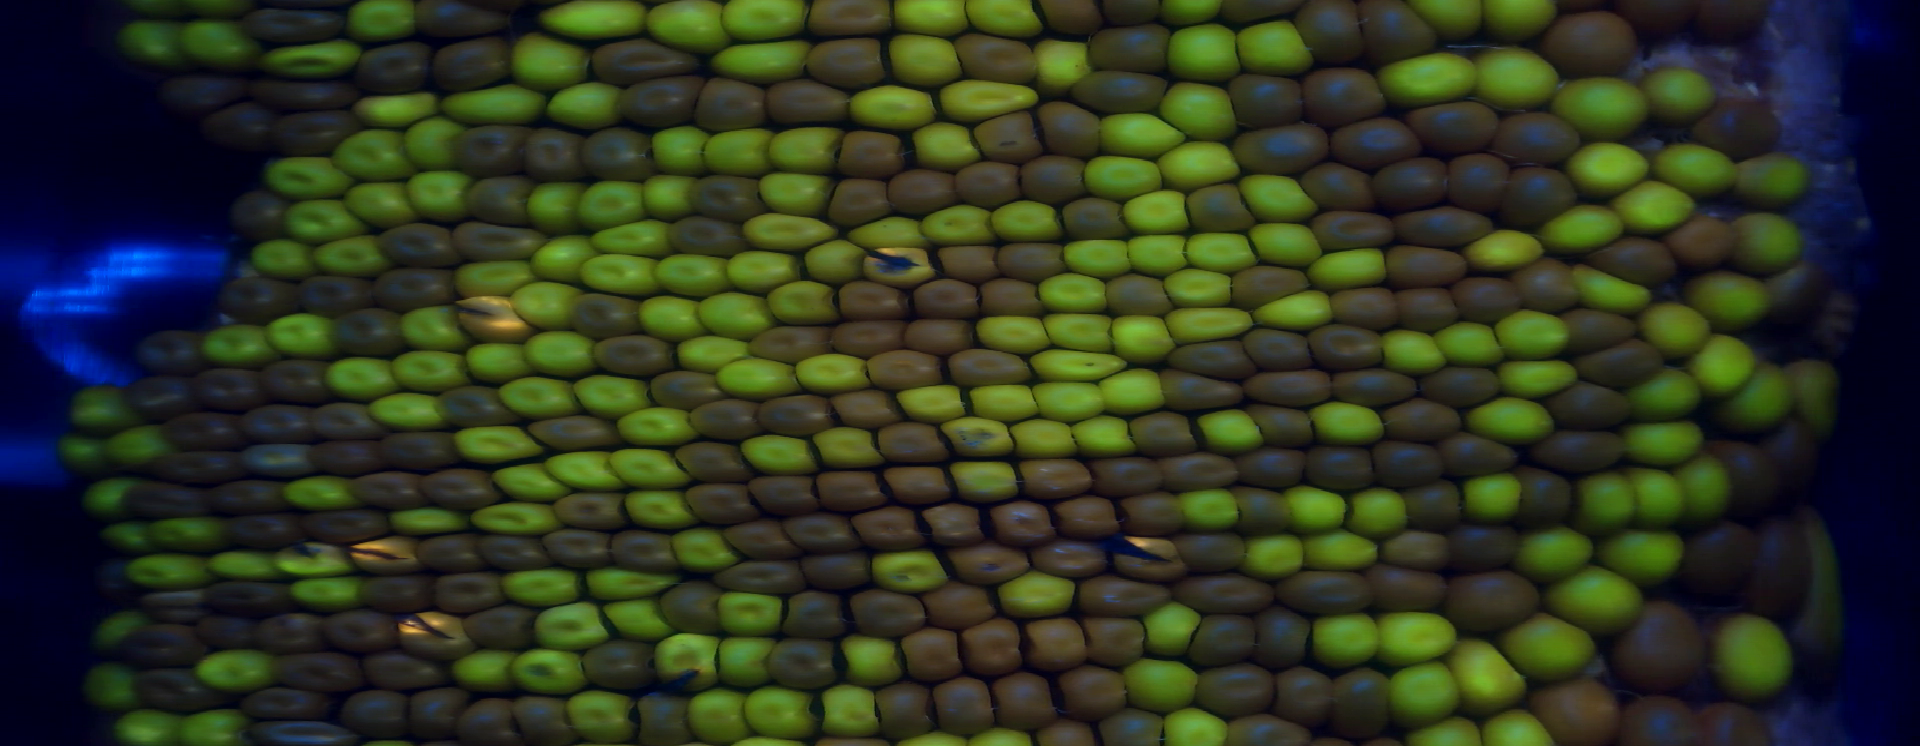fluorescent: (1801, 524, 1848, 702), (1713, 612, 1789, 697), (1545, 567, 1643, 628), (1553, 78, 1649, 138), (1452, 637, 1524, 717), (1502, 617, 1596, 677), (1477, 48, 1555, 111), (1160, 78, 1236, 143), (1379, 54, 1477, 102), (1389, 660, 1460, 725), (1724, 367, 1793, 434), (1693, 267, 1766, 328), (1728, 213, 1800, 274), (1618, 176, 1692, 235), (1122, 657, 1198, 714), (1468, 397, 1555, 447), (512, 31, 589, 87), (1603, 529, 1681, 583), (850, 85, 938, 132), (890, 29, 960, 89), (1167, 23, 1238, 82), (1376, 612, 1457, 664), (653, 632, 718, 696), (1520, 529, 1597, 582), (1643, 300, 1709, 361), (446, 85, 549, 124), (650, 2, 732, 51), (1653, 142, 1735, 191), (1735, 149, 1807, 205), (938, 81, 1038, 120), (711, 42, 808, 82), (1547, 202, 1622, 254), (1569, 140, 1648, 189), (1100, 114, 1185, 159), (1238, 21, 1311, 73), (542, 4, 647, 40), (1643, 72, 1719, 122), (1155, 141, 1238, 186), (328, 129, 407, 176), (1625, 421, 1703, 469), (1313, 611, 1379, 668), (743, 214, 838, 254), (1576, 473, 1637, 533), (492, 376, 580, 418), (874, 548, 949, 597), (1629, 370, 1703, 419), (1085, 152, 1163, 198), (753, 171, 831, 218), (566, 688, 638, 739), (746, 692, 818, 742), (324, 356, 400, 404), (997, 571, 1078, 615), (182, 20, 253, 69), (571, 374, 651, 416), (1242, 176, 1320, 220), (1144, 601, 1202, 660), (533, 601, 605, 649), (1697, 334, 1753, 396), (1187, 233, 1262, 278), (1030, 348, 1127, 383), (768, 122, 838, 171), (262, 43, 361, 77), (913, 120, 980, 171), (724, 2, 813, 40), (527, 331, 598, 379), (1245, 532, 1313, 582), (1788, 363, 1837, 431), (698, 292, 768, 339), (453, 296, 524, 343), (552, 80, 620, 129), (817, 685, 878, 739), (1247, 222, 1321, 266), (1500, 309, 1569, 356), (940, 416, 1013, 462), (722, 251, 803, 292), (719, 356, 797, 398), (1464, 229, 1543, 271), (655, 254, 731, 296), (688, 691, 754, 740), (841, 635, 902, 687), (947, 457, 1018, 502), (582, 255, 661, 295), (69, 383, 136, 431), (283, 195, 358, 238), (1573, 267, 1648, 310), (1124, 190, 1193, 236), (1682, 456, 1728, 526), (211, 548, 287, 589), (513, 284, 579, 332), (714, 593, 787, 636), (1633, 467, 1684, 529), (857, 244, 937, 283), (580, 183, 644, 232), (268, 157, 348, 196), (312, 238, 389, 278), (1253, 292, 1330, 332), (201, 647, 269, 692), (1381, 327, 1446, 375), (1347, 488, 1407, 539), (972, 381, 1038, 428), (547, 451, 623, 491), (606, 448, 687, 486), (1438, 318, 1500, 367), (354, 92, 440, 127), (203, 323, 274, 366), (456, 423, 541, 458), (1502, 358, 1573, 401), (404, 171, 468, 219), (1113, 316, 1172, 367), (703, 130, 768, 176), (501, 571, 583, 608), (989, 201, 1062, 243), (616, 407, 688, 448), (976, 314, 1048, 355), (1314, 402, 1386, 443), (1309, 250, 1385, 289), (528, 183, 583, 236), (407, 118, 462, 171), (453, 652, 520, 696), (509, 652, 583, 692), (588, 222, 671, 257), (389, 352, 473, 387), (343, 183, 411, 225), (125, 555, 211, 589), (470, 502, 556, 537), (1164, 265, 1233, 307), (969, 1, 1046, 39), (489, 464, 563, 503), (1037, 272, 1109, 312), (768, 281, 838, 322), (718, 637, 771, 691), (274, 539, 348, 578), (898, 383, 971, 423), (640, 293, 700, 341), (467, 341, 531, 385), (918, 206, 993, 244), (599, 599, 671, 638), (118, 22, 180, 67), (671, 527, 733, 572), (648, 126, 707, 174), (533, 233, 593, 279), (675, 334, 748, 372), (344, 2, 415, 42), (1033, 40, 1090, 89), (803, 236, 860, 285), (1464, 474, 1521, 523), (797, 355, 867, 394), (623, 488, 693, 527), (1307, 530, 1376, 570), (1167, 306, 1253, 338), (1128, 232, 1188, 277), (370, 392, 443, 429), (1288, 484, 1343, 533), (743, 435, 816, 472), (456, 262, 533, 296), (816, 428, 883, 467), (1013, 414, 1078, 454), (893, 2, 969, 37), (1037, 381, 1106, 419), (585, 570, 673, 599), (1104, 367, 1160, 414), (1060, 236, 1128, 274), (1048, 312, 1113, 352), (255, 236, 312, 281), (1480, 710, 1551, 746), (284, 475, 353, 512), (1074, 414, 1133, 457), (102, 426, 165, 465), (1198, 412, 1259, 452), (272, 314, 329, 356), (1183, 488, 1240, 530), (178, 710, 245, 746), (643, 174, 693, 220), (1164, 706, 1226, 744), (153, 517, 218, 552), (403, 311, 460, 350), (115, 707, 173, 746), (849, 217, 924, 246), (290, 577, 358, 609), (383, 507, 467, 533), (100, 514, 153, 552), (86, 668, 133, 707), (83, 479, 131, 514), (58, 429, 102, 467), (96, 612, 144, 639)
nonfluorescent: (1618, 600, 1707, 692), (1753, 512, 1813, 628), (1548, 7, 1638, 73), (1682, 521, 1753, 598), (1531, 676, 1613, 742), (1232, 122, 1330, 176), (1329, 116, 1423, 171), (1499, 167, 1578, 232), (1447, 572, 1537, 630), (1493, 111, 1583, 167), (1767, 266, 1829, 344), (1299, 69, 1386, 122), (1360, 2, 1438, 62), (1176, 571, 1275, 617), (591, 39, 698, 82), (1071, 67, 1164, 116), (1697, 102, 1780, 156), (809, 37, 891, 91), (1588, 235, 1671, 288), (1713, 442, 1776, 512), (267, 650, 360, 697), (1078, 572, 1171, 619), (1547, 380, 1629, 432), (763, 78, 851, 127), (1231, 69, 1300, 130), (1325, 673, 1386, 742), (271, 107, 361, 153), (1616, 692, 1700, 742), (620, 77, 700, 129), (1374, 157, 1451, 211), (133, 668, 222, 714), (1771, 416, 1818, 502), (432, 36, 508, 89), (1298, 2, 1363, 65), (1280, 571, 1371, 615), (1160, 363, 1244, 410), (452, 220, 549, 262), (1578, 341, 1660, 390), (451, 125, 523, 180), (1196, 665, 1273, 717), (958, 36, 1038, 85), (849, 589, 924, 641), (1089, 24, 1168, 73), (1169, 339, 1258, 383), (992, 671, 1058, 730), (119, 622, 204, 668), (249, 77, 354, 114), (1531, 430, 1622, 472), (1411, 102, 1487, 152), (768, 637, 835, 693), (1367, 566, 1447, 612), (464, 606, 539, 657), (1040, 102, 1103, 160), (373, 223, 458, 267), (356, 47, 432, 96), (756, 396, 838, 441), (585, 641, 658, 692), (1188, 617, 1260, 669), (372, 267, 453, 312), (943, 348, 1033, 388), (887, 165, 958, 217), (698, 78, 764, 134), (1022, 619, 1089, 674), (360, 652, 444, 695), (149, 448, 239, 489), (261, 352, 326, 407), (691, 176, 765, 224), (1021, 152, 1089, 205), (585, 129, 654, 180), (936, 677, 994, 737), (960, 621, 1022, 677), (816, 469, 889, 517), (522, 129, 587, 183), (1518, 261, 1584, 314), (1303, 163, 1374, 212), (590, 333, 671, 376), (322, 610, 400, 654), (1258, 609, 1311, 673), (1242, 327, 1315, 374), (200, 479, 293, 516), (400, 610, 474, 657), (218, 279, 298, 322), (866, 349, 943, 393), (1057, 668, 1123, 719), (953, 162, 1025, 208), (748, 473, 820, 519), (718, 557, 803, 597), (414, 1, 508, 37), (358, 573, 433, 617), (1700, 702, 1776, 746), (1308, 445, 1378, 492), (782, 587, 849, 637), (1228, 266, 1310, 306), (433, 387, 516, 428), (381, 430, 460, 472), (1087, 617, 1147, 673), (1111, 537, 1182, 583), (744, 323, 831, 361), (1248, 369, 1335, 407), (899, 627, 960, 681), (127, 481, 202, 526), (424, 468, 498, 512), (688, 397, 760, 442), (533, 413, 613, 453), (1335, 366, 1418, 405), (164, 409, 242, 451), (1393, 283, 1458, 333), (1128, 413, 1198, 459), (662, 581, 722, 635), (1518, 467, 1571, 528), (808, 1, 899, 37), (1396, 212, 1487, 247), (851, 507, 922, 552), (1385, 246, 1464, 287), (464, 176, 531, 224), (1053, 494, 1120, 541), (1673, 218, 1735, 269), (973, 111, 1037, 162), (1567, 307, 1640, 352), (1378, 441, 1442, 490), (951, 543, 1030, 583), (1315, 211, 1398, 249), (1275, 668, 1327, 728), (122, 369, 189, 416), (1453, 274, 1520, 322), (1441, 432, 1515, 475), (725, 517, 792, 563), (1311, 325, 1382, 369), (255, 612, 326, 657), (1188, 183, 1251, 232), (921, 587, 998, 627), (687, 481, 762, 523), (430, 571, 498, 616), (225, 513, 310, 550), (634, 688, 691, 744), (1422, 363, 1487, 410), (838, 279, 910, 322), (509, 695, 571, 745), (1384, 402, 1462, 441), (298, 277, 373, 317), (833, 321, 909, 361), (1164, 454, 1245, 492), (1022, 458, 1093, 501), (252, 9, 344, 42), (1449, 153, 1505, 207), (189, 369, 268, 407), (878, 419, 943, 465), (838, 127, 899, 176), (677, 442, 747, 485), (1032, 539, 1108, 578), (140, 331, 203, 377), (231, 190, 290, 240), (207, 579, 287, 616), (478, 534, 550, 575), (786, 512, 858, 552), (1382, 530, 1455, 571), (612, 527, 675, 573), (1238, 451, 1308, 492), (1118, 490, 1183, 534), (910, 276, 978, 317), (669, 216, 743, 254), (885, 468, 958, 507), (337, 312, 400, 356), (1234, 488, 1298, 532), (1329, 285, 1396, 327), (255, 717, 354, 745), (1108, 273, 1168, 320), (460, 697, 520, 744), (351, 472, 422, 511), (831, 390, 900, 430), (544, 528, 612, 568), (878, 684, 932, 735), (1096, 456, 1164, 496), (204, 104, 267, 148), (405, 690, 463, 737), (241, 402, 311, 441), (924, 501, 983, 548), (1404, 484, 1463, 530), (978, 278, 1042, 321), (993, 502, 1053, 548), (1062, 196, 1127, 238), (573, 292, 636, 334), (299, 512, 389, 541), (306, 441, 383, 475), (1449, 529, 1513, 570), (1256, 404, 1314, 450), (169, 69, 238, 107), (553, 492, 622, 530), (309, 402, 378, 439), (800, 554, 869, 590), (996, 243, 1060, 282), (1178, 535, 1243, 575), (242, 685, 322, 717), (827, 181, 885, 224), (351, 538, 420, 575), (902, 317, 972, 353), (651, 367, 716, 405), (418, 532, 482, 570), (1101, 707, 1162, 746), (343, 692, 405, 730), (239, 442, 306, 477), (938, 243, 996, 282), (143, 586, 207, 620), (201, 614, 256, 648), (1040, 726, 1089, 746)
